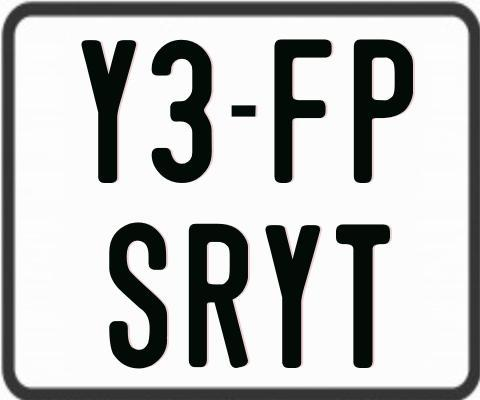3: (152, 39, 212, 188)
F: (274, 38, 337, 184)
P: (353, 37, 412, 181)
R: (188, 222, 250, 370)
S: (109, 221, 172, 370)
T: (336, 222, 391, 371)
Y: (82, 37, 141, 183), (264, 225, 319, 371)
